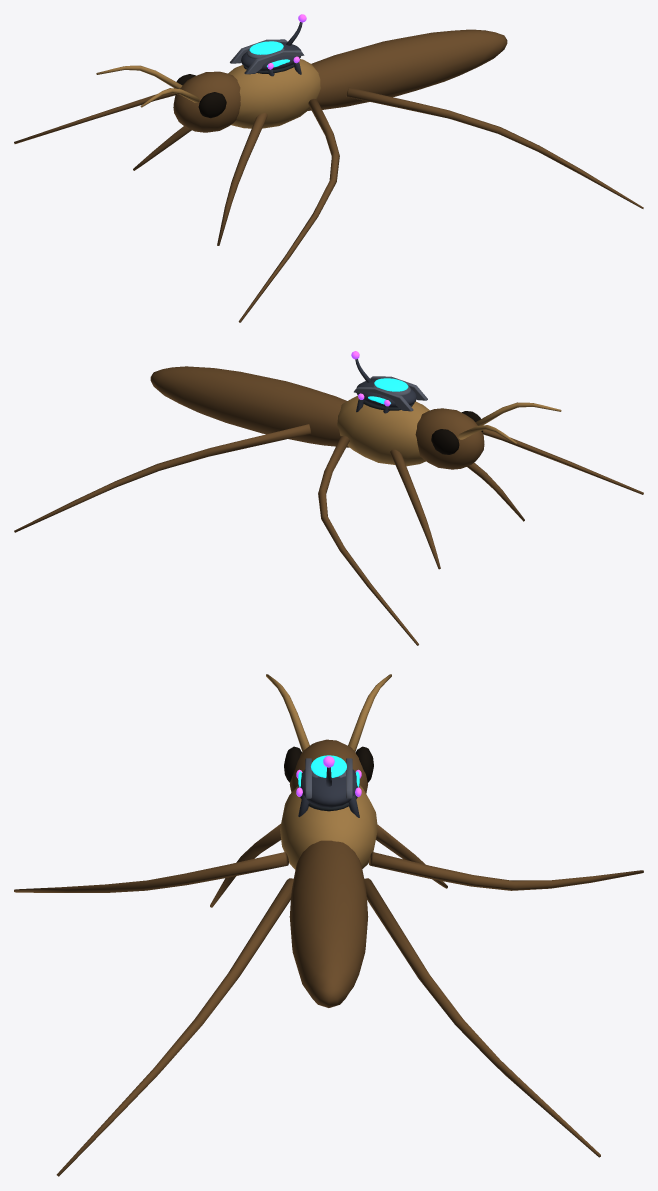
File: controlled_water_strider.glb
3 renders of one model, top to bottom at view 1: azimuth 30°, elevation 25°; view 2: azimuth 150°, elevation 25°; view 3: azimuth 270°, elevation 25°, orthographic. The views are drawn at different scales.
Parts seen in each view (by area): view 1: NaturalFaunaGeometry, AlienControlDeviceGeometry; view 2: NaturalFaunaGeometry, AlienControlDeviceGeometry; view 3: NaturalFaunaGeometry, AlienControlDeviceGeometry.
Part boxes in pixels (box(x1,y1,x2,y2)): NaturalFaunaGeometry: box(14, 29, 643, 322); AlienControlDeviceGeometry: box(230, 14, 306, 76); NaturalFaunaGeometry: box(14, 366, 643, 645); AlienControlDeviceGeometry: box(351, 351, 427, 413); NaturalFaunaGeometry: box(14, 674, 643, 1176); AlienControlDeviceGeometry: box(296, 755, 361, 817).
Size of the model in its own units: 2.11 by 0.861 by 1.93.
